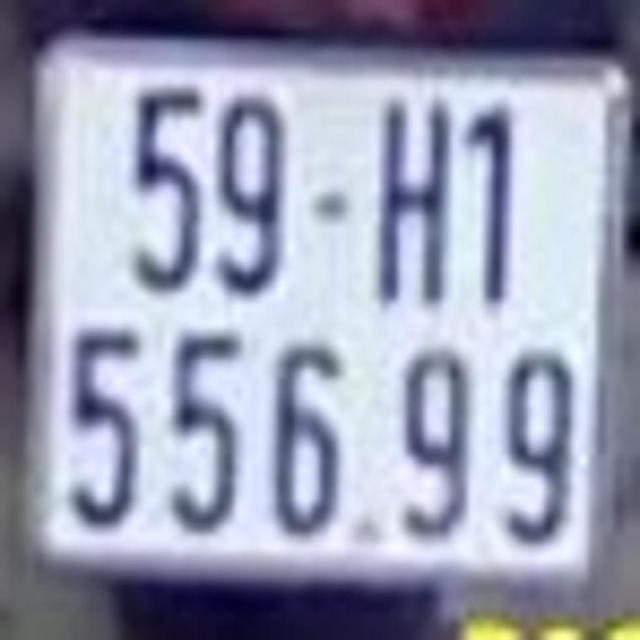1: (462, 90, 524, 308)
5: (63, 318, 141, 524), (165, 323, 238, 536), (130, 81, 202, 289)
6: (264, 332, 340, 532)
9: (496, 336, 573, 548), (398, 335, 472, 542), (214, 90, 286, 298)
H: (378, 83, 458, 304)
